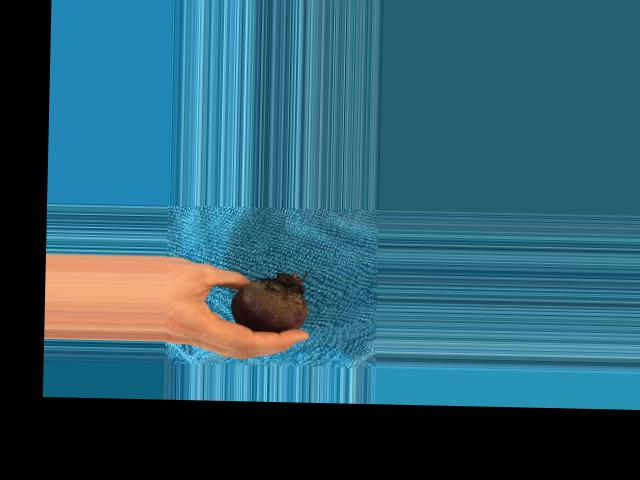beet: (231, 270, 308, 332)
